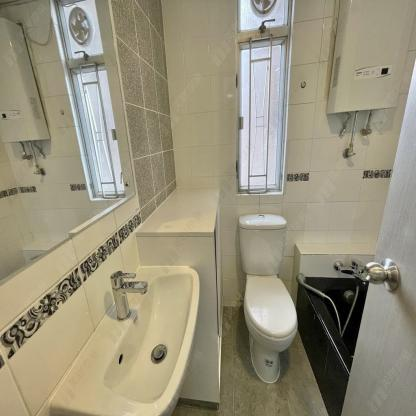Bathtub: (291, 240, 378, 415)
Exhaust Fan: (250, 0, 275, 16)
Toilet: (239, 214, 296, 383)
Toilet Sink: (46, 264, 203, 415)
